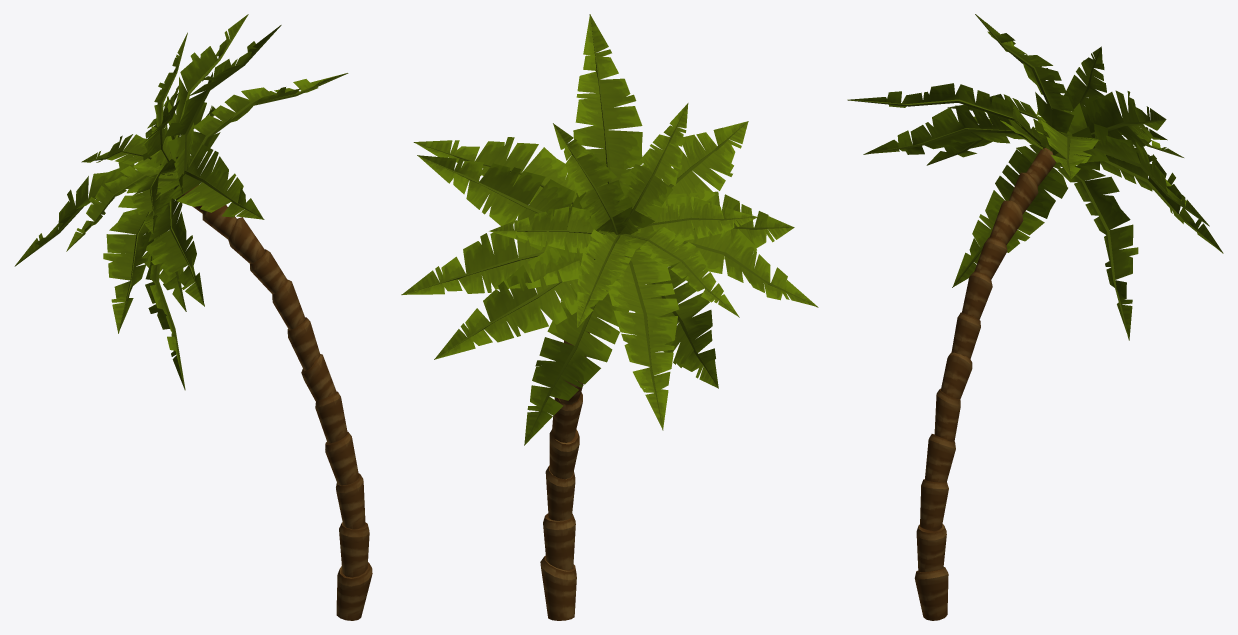
File: Palmtree.fbx
The picture shows the model from 3 angles, left to right: view 1: azimuth 30°, elevation 25°; view 2: azimuth 150°, elevation 25°; view 3: azimuth 270°, elevation 25°; orthographic projection. The views are drawn at different scales.
Parts seen in each view (by area): view 1: polySurface4658; view 2: polySurface4658; view 3: polySurface4658.
Part boxes in pixels (x1,y1,x2,y2): polySurface4658: (14, 14, 372, 620); polySurface4658: (401, 14, 818, 620); polySurface4658: (847, 14, 1223, 620).
Bounding box in the file's own units: 766 × 1421 × 837.
1 material, 1 textured.
